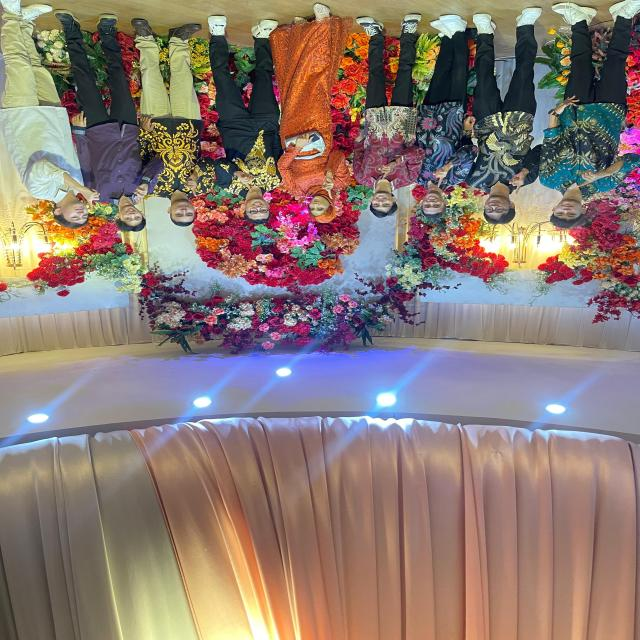nohelmet: (475, 183, 518, 230), (160, 191, 207, 229), (414, 182, 454, 226), (106, 197, 150, 234), (48, 199, 93, 233), (232, 192, 276, 226), (550, 188, 584, 230), (362, 182, 398, 219), (302, 188, 339, 222)
